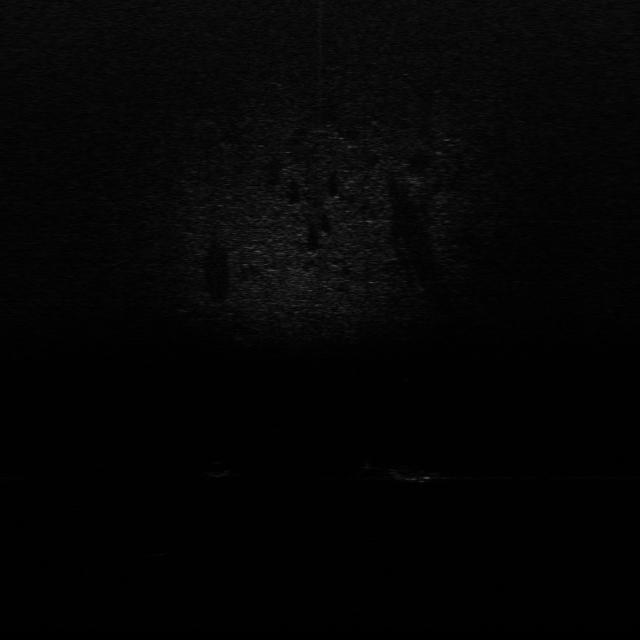ball: (207, 458, 231, 481)
circle cage: (144, 548, 186, 568)
human body: (362, 456, 463, 487)
